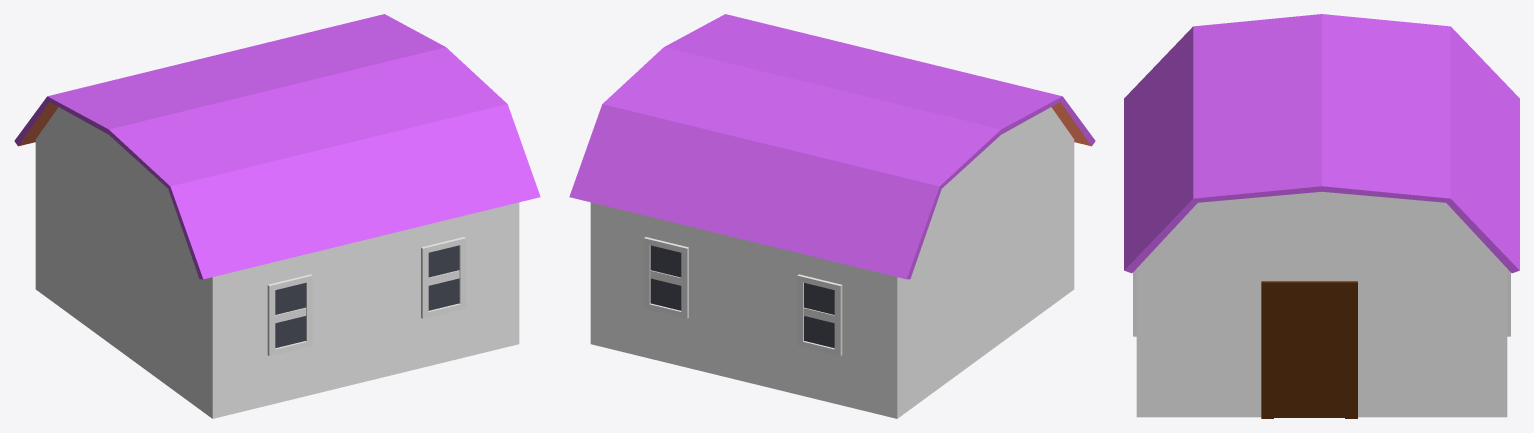
The model's file is house 3.model.fbx.
3 views of the same model, side by side, from view 1: azimuth 30°, elevation 25°; view 2: azimuth 150°, elevation 25°; view 3: azimuth 270°, elevation 25° (orthographic). The views are drawn at different scales.
Parts seen in each view (by area): view 1: block_0, roof_barn_17, roof_barn_19, window_24, window_25; view 2: block_0, roof_barn_19, roof_barn_17, window_27, window_26; view 3: block_0, roof_barn_17, roof_barn_19, door_low_10.
Part boxes in pixels (x1=…): block_0: x1=35, y1=140, x2=519, y2=418; roof_barn_17: x1=109, y1=47, x2=540, y2=279; roof_barn_19: x1=14, y1=14, x2=445, y2=203; window_24: x1=267, y1=274, x2=312, y2=356; window_25: x1=421, y1=237, x2=465, y2=318; block_0: x1=590, y1=140, x2=1074, y2=418; roof_barn_19: x1=569, y1=47, x2=1000, y2=279; roof_barn_17: x1=664, y1=14, x2=1095, y2=203; window_27: x1=797, y1=274, x2=842, y2=356; window_26: x1=644, y1=237, x2=688, y2=318; block_0: x1=1136, y1=260, x2=1507, y2=417; roof_barn_17: x1=1124, y1=14, x2=1321, y2=273; roof_barn_19: x1=1322, y1=14, x2=1519, y2=273; door_low_10: x1=1261, y1=281, x2=1357, y2=418.
Size of the model in its own units: 33 by 21.35 by 32.04.
